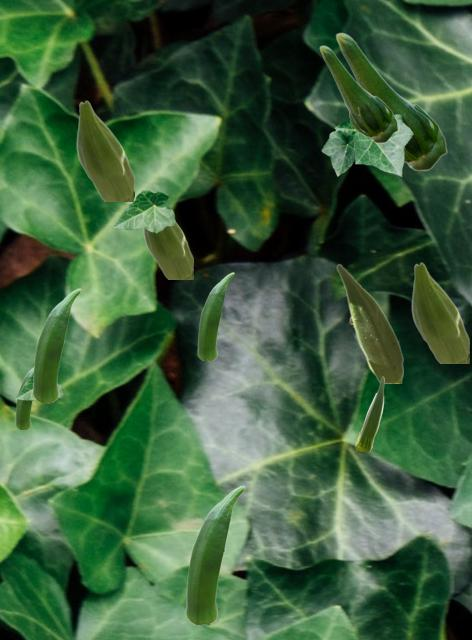okra: (335, 32, 446, 170), (185, 485, 244, 623), (336, 263, 402, 382), (319, 45, 397, 142), (76, 100, 133, 200), (411, 262, 468, 362), (32, 288, 80, 401), (143, 191, 192, 278), (197, 272, 233, 359), (355, 376, 383, 450), (15, 367, 32, 428)
